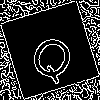Q: (25, 25, 83, 86)
